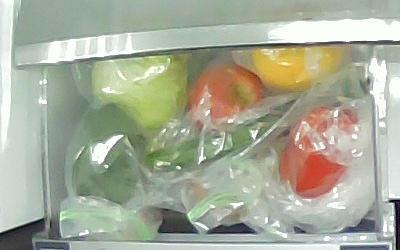apple_vinyl: (188, 63, 265, 134)
broccoli_vinyl: (73, 103, 165, 204)
cucumber_vinyl: (145, 77, 371, 172)
grapefruit_vinyl: (252, 45, 342, 91)
lettuce_vinyl: (90, 52, 185, 136)
paprika_vinyl: (278, 106, 358, 198)
